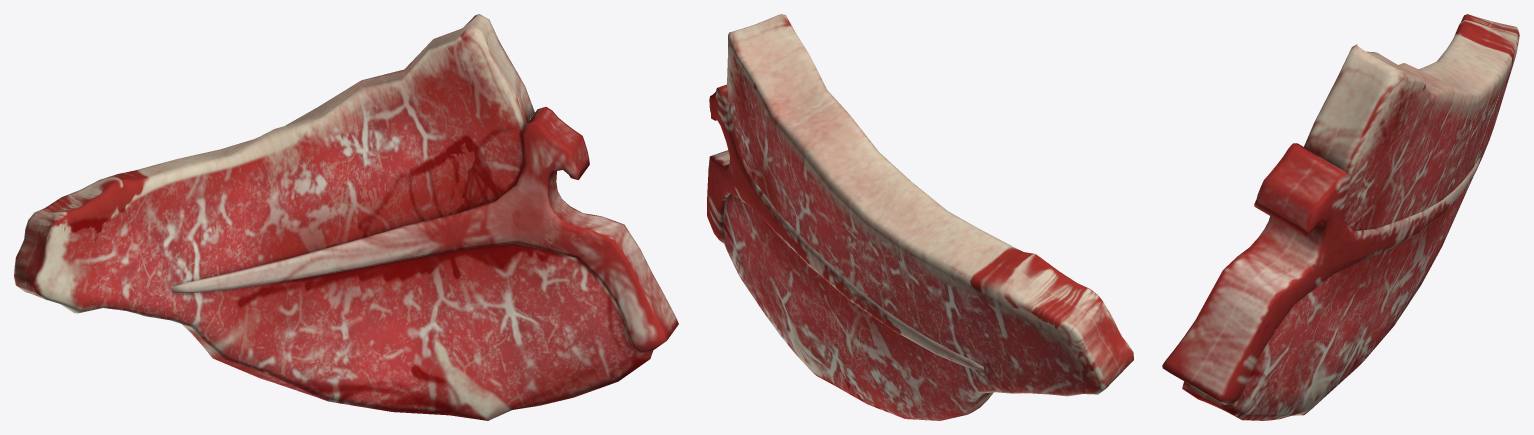
Rendered from meat_raw_rib__game_ready_model.glb.
3 views of the same model, side by side, from view 1: azimuth 30°, elevation 25°; view 2: azimuth 150°, elevation 25°; view 3: azimuth 270°, elevation 25° (orthographic). The views are drawn at different scales.
Parts seen in each view (by area): view 1: Meat; view 2: Meat; view 3: Meat.
Boxes of the visible parts, x1=… form: Meat: x1=14, y1=14, x2=678, y2=420; Meat: x1=707, y1=14, x2=1133, y2=420; Meat: x1=1162, y1=14, x2=1519, y2=420.
Bounding box in the file's own units: 56.85 × 37.86 × 32.81.
1 material, 1 textured.
